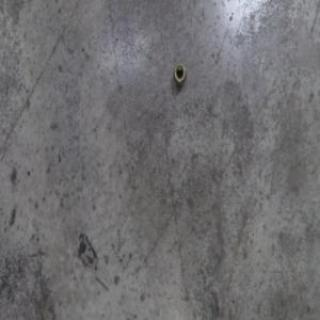Nuttrack_idkeyframe: (171, 62, 186, 88)
